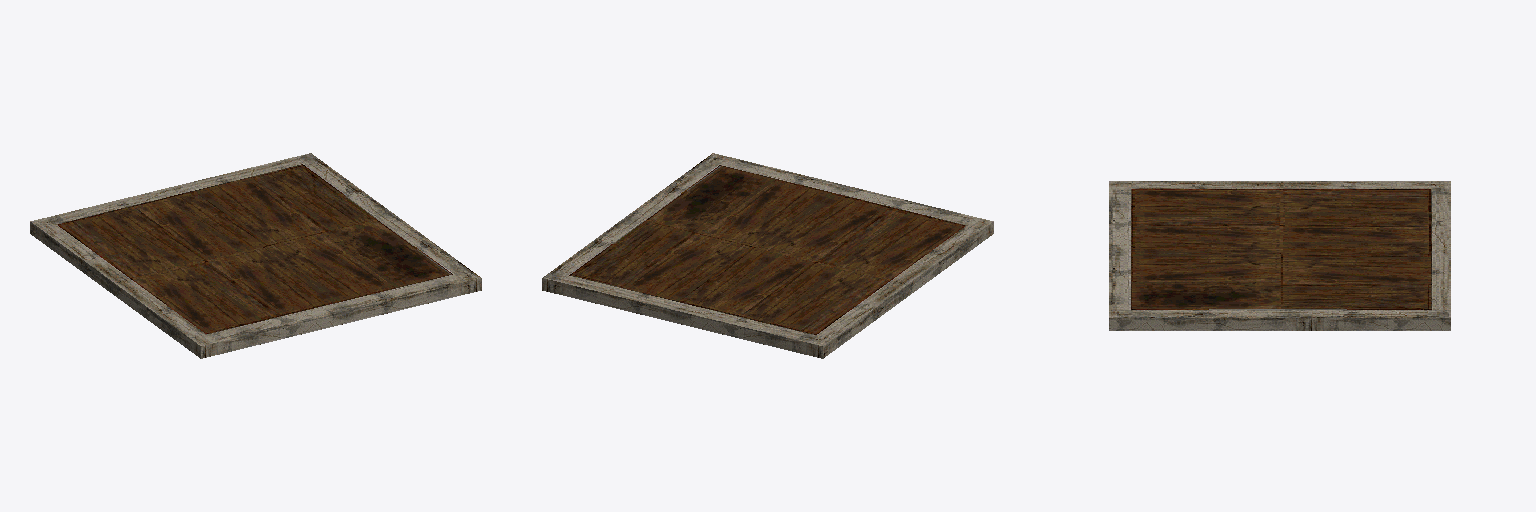
The picture shows the model from 3 angles: view 1: azimuth 30°, elevation 25°; view 2: azimuth 150°, elevation 25°; view 3: azimuth 270°, elevation 25°; orthographic projection.
Parts seen in each view (by area): view 1: Sframe-00.Sframe-10_Sframe-00; view 2: Sframe-00.Sframe-10_Sframe-00; view 3: Sframe-00.Sframe-10_Sframe-00.
Boxes of the visible parts, box(x1,y1,x2,y2) form: Sframe-00.Sframe-10_Sframe-00: box(30, 153, 481, 358); Sframe-00.Sframe-10_Sframe-00: box(542, 153, 993, 358); Sframe-00.Sframe-10_Sframe-00: box(1109, 181, 1450, 330).
Bounding box in the file's own units: 1.9 × 0.081 × 2.
1 materials, 1 textured.